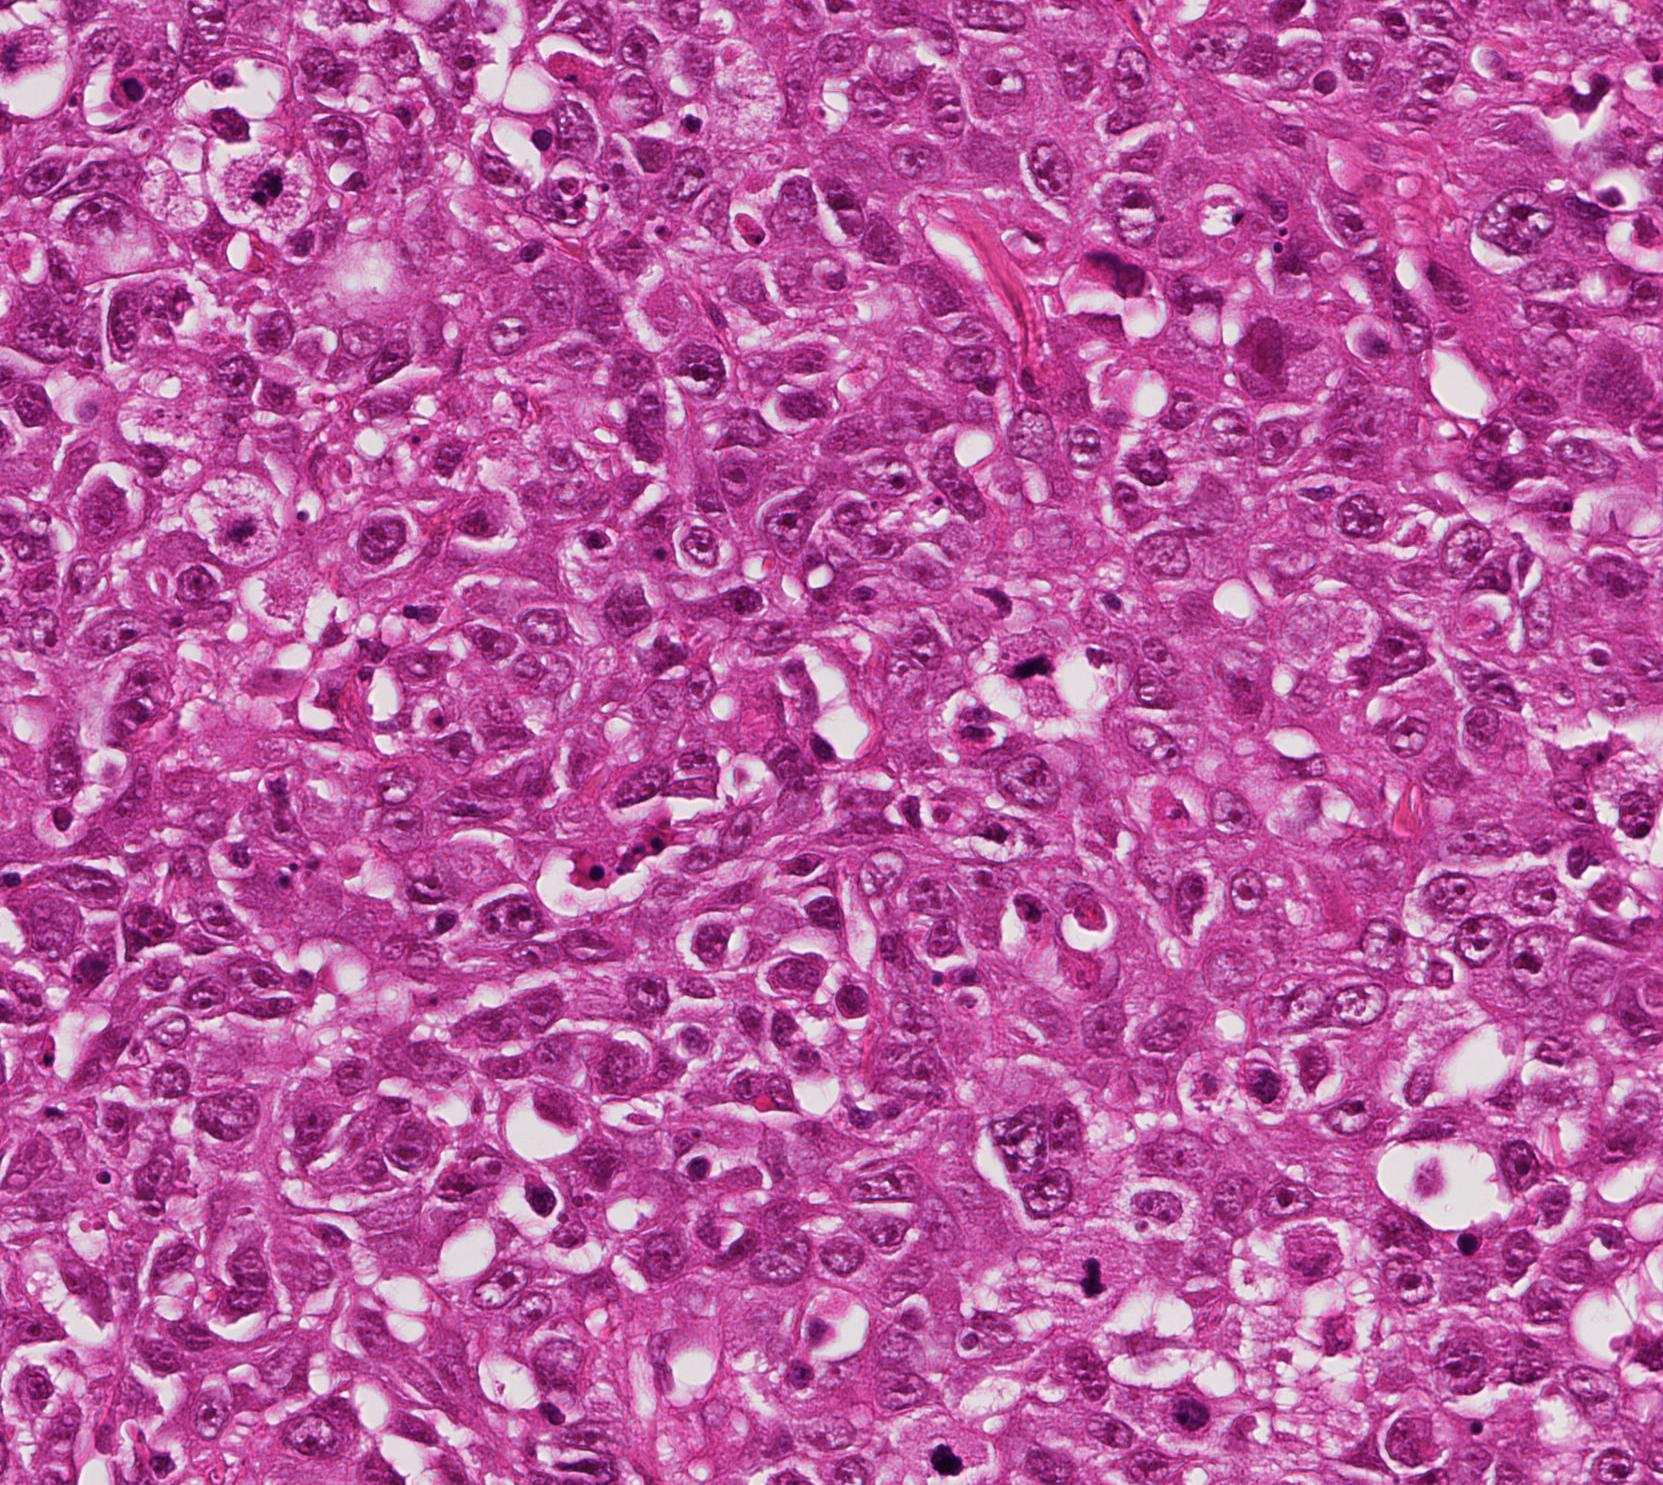mitosis: (1064, 1248, 1124, 1309), (998, 636, 1058, 697), (915, 1428, 973, 1485)
